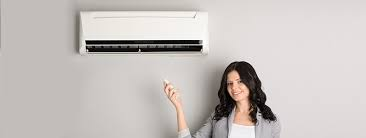ac: (73, 5, 211, 60)
